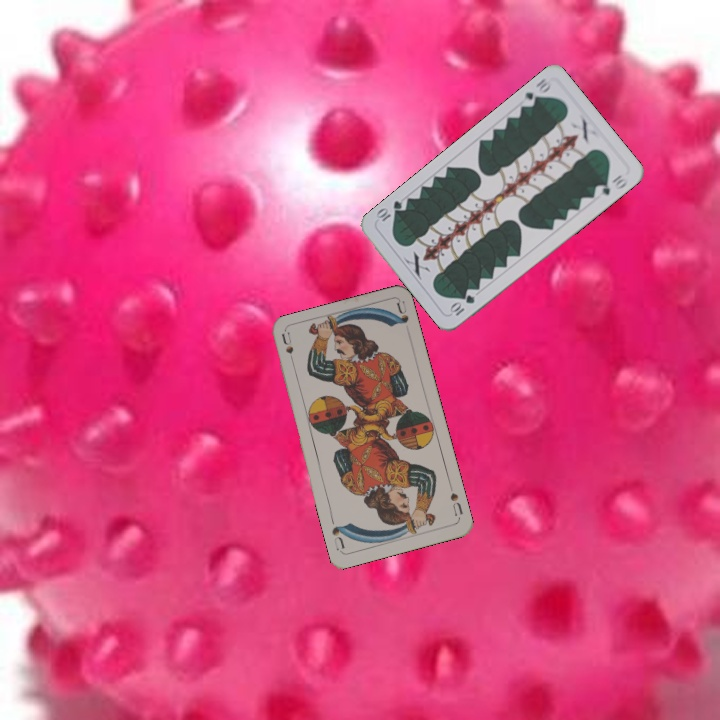G10: (517, 72, 555, 110), (446, 291, 477, 318)
SU: (278, 329, 298, 370), (445, 481, 466, 518)
